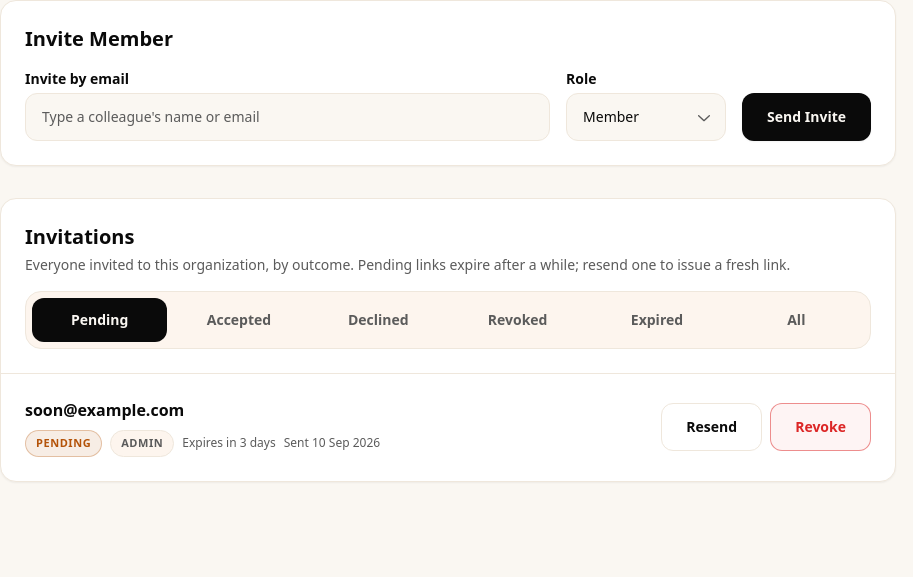
Scenario: OrganizationInvitations › shows the server's message when a resend is refused
Expected: the text "Expires in 3 days" is shown, [182,435,276,451]
What coordinates should you click on to do the following:
click the button "Resend"
I would click on:
 (712, 427)
Its box is [661,403,762,451].
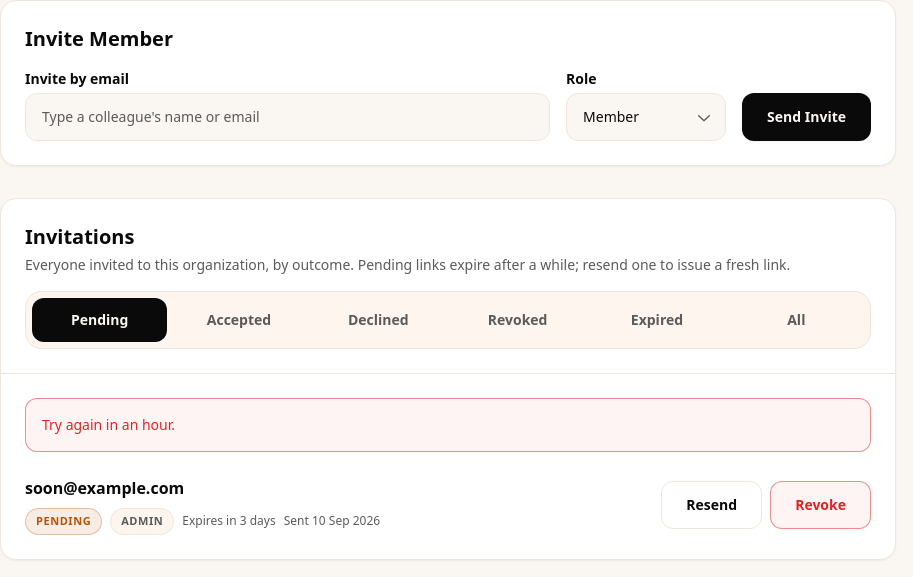
Expected: the text "Try again in an hour." is shown, [25,398,871,452]
